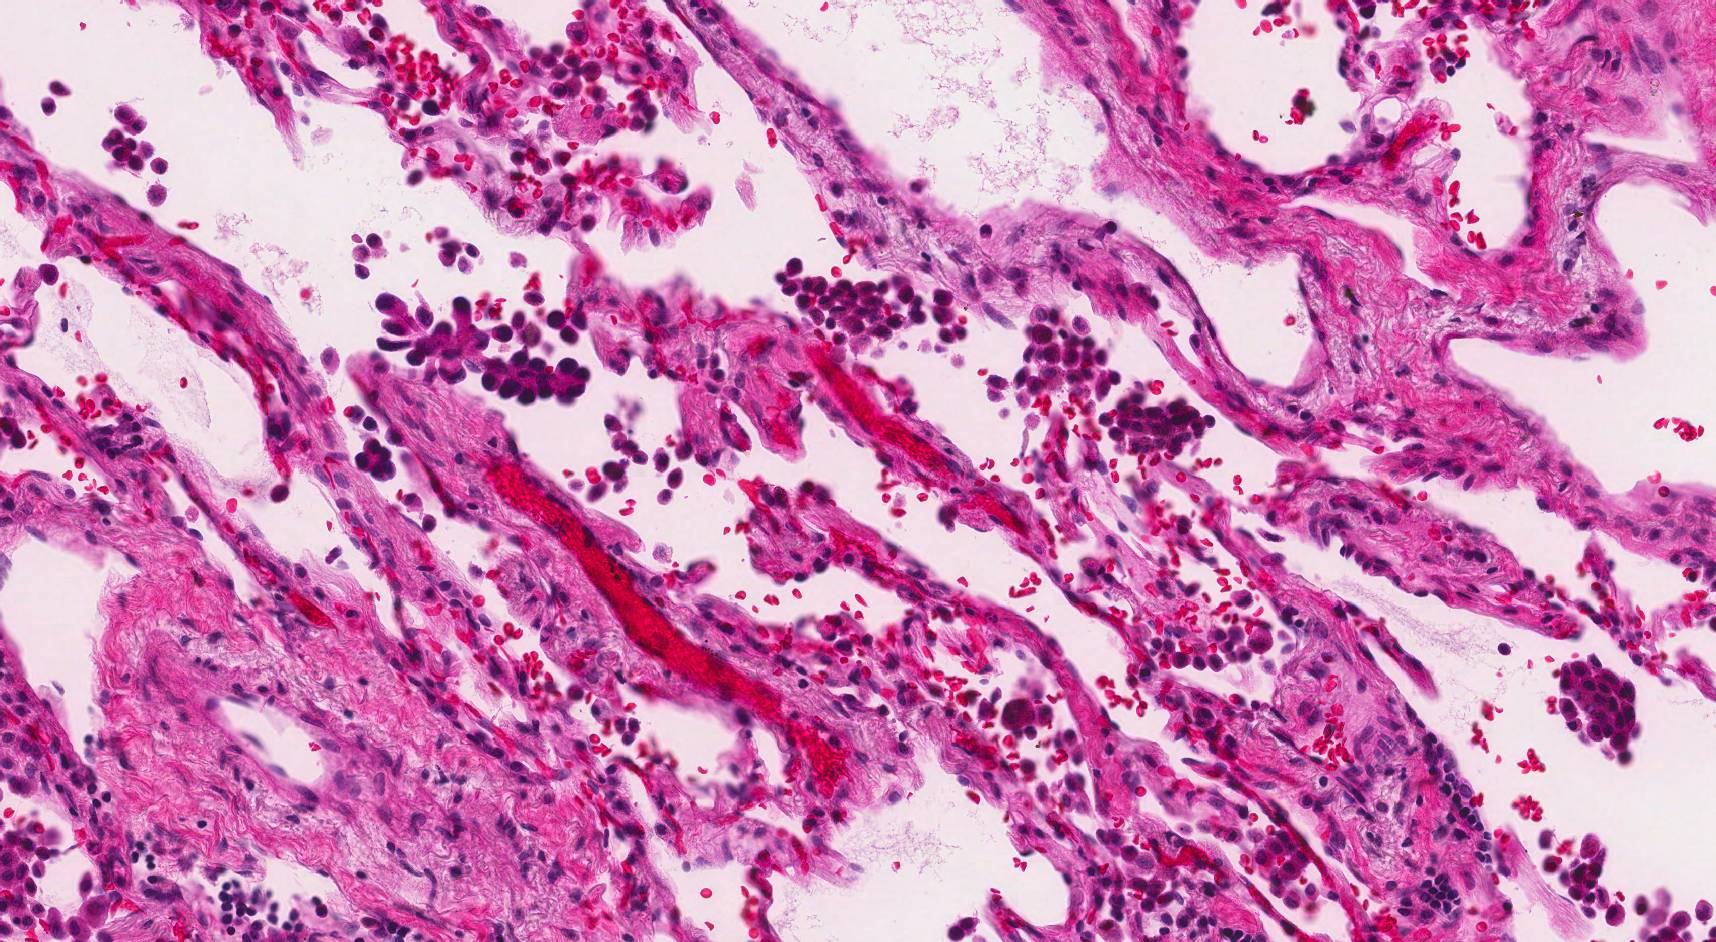stas: (372, 289, 591, 406), (355, 438, 397, 479)
